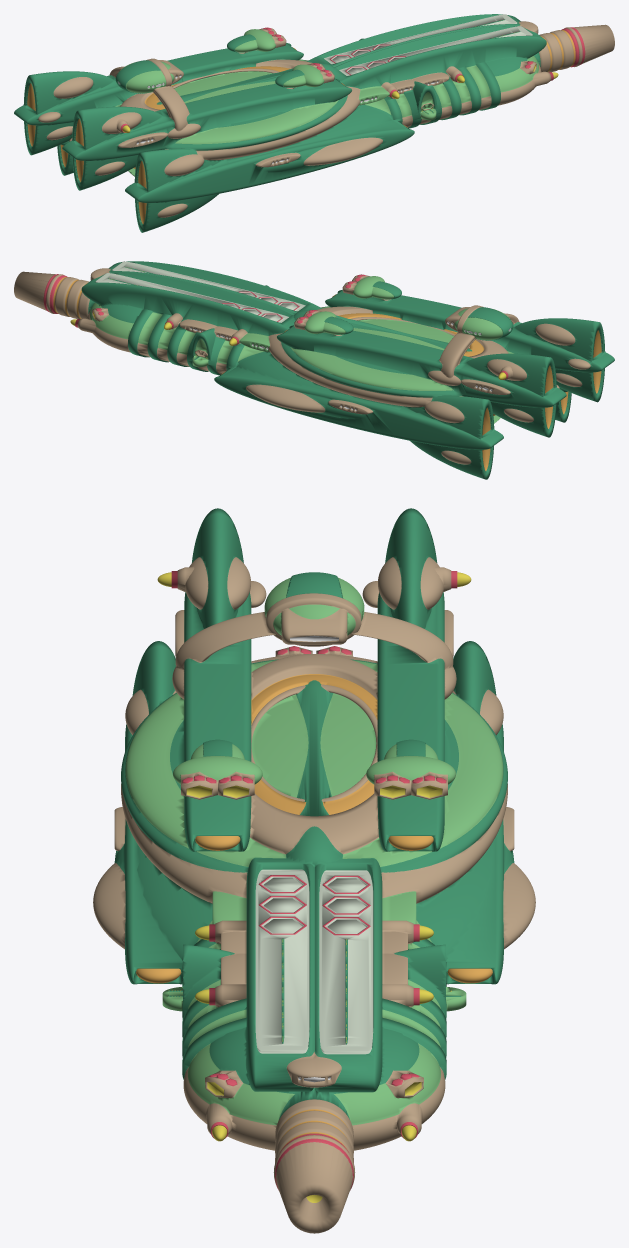
Rendered from kre-intrallus.glb.
3 views of the same model, one above another, from view 1: azimuth 30°, elevation 25°; view 2: azimuth 150°, elevation 25°; view 3: azimuth 270°, elevation 25° (orthographic). The views are drawn at different scales.
Parts seen in each view (by area): view 1: Intrallus current hull - authored COLOR_0 regions; view 2: Intrallus current hull - authored COLOR_0 regions; view 3: Intrallus current hull - authored COLOR_0 regions.
Part boxes in pixels (x1=…): Intrallus current hull - authored COLOR_0 regions: x1=14, y1=14, x2=614, y2=232; Intrallus current hull - authored COLOR_0 regions: x1=14, y1=261, x2=614, y2=479; Intrallus current hull - authored COLOR_0 regions: x1=93, y1=508, x2=535, y2=1233.
Bounding box in the file's own units: 9.69 × 2.12 × 3.3.
